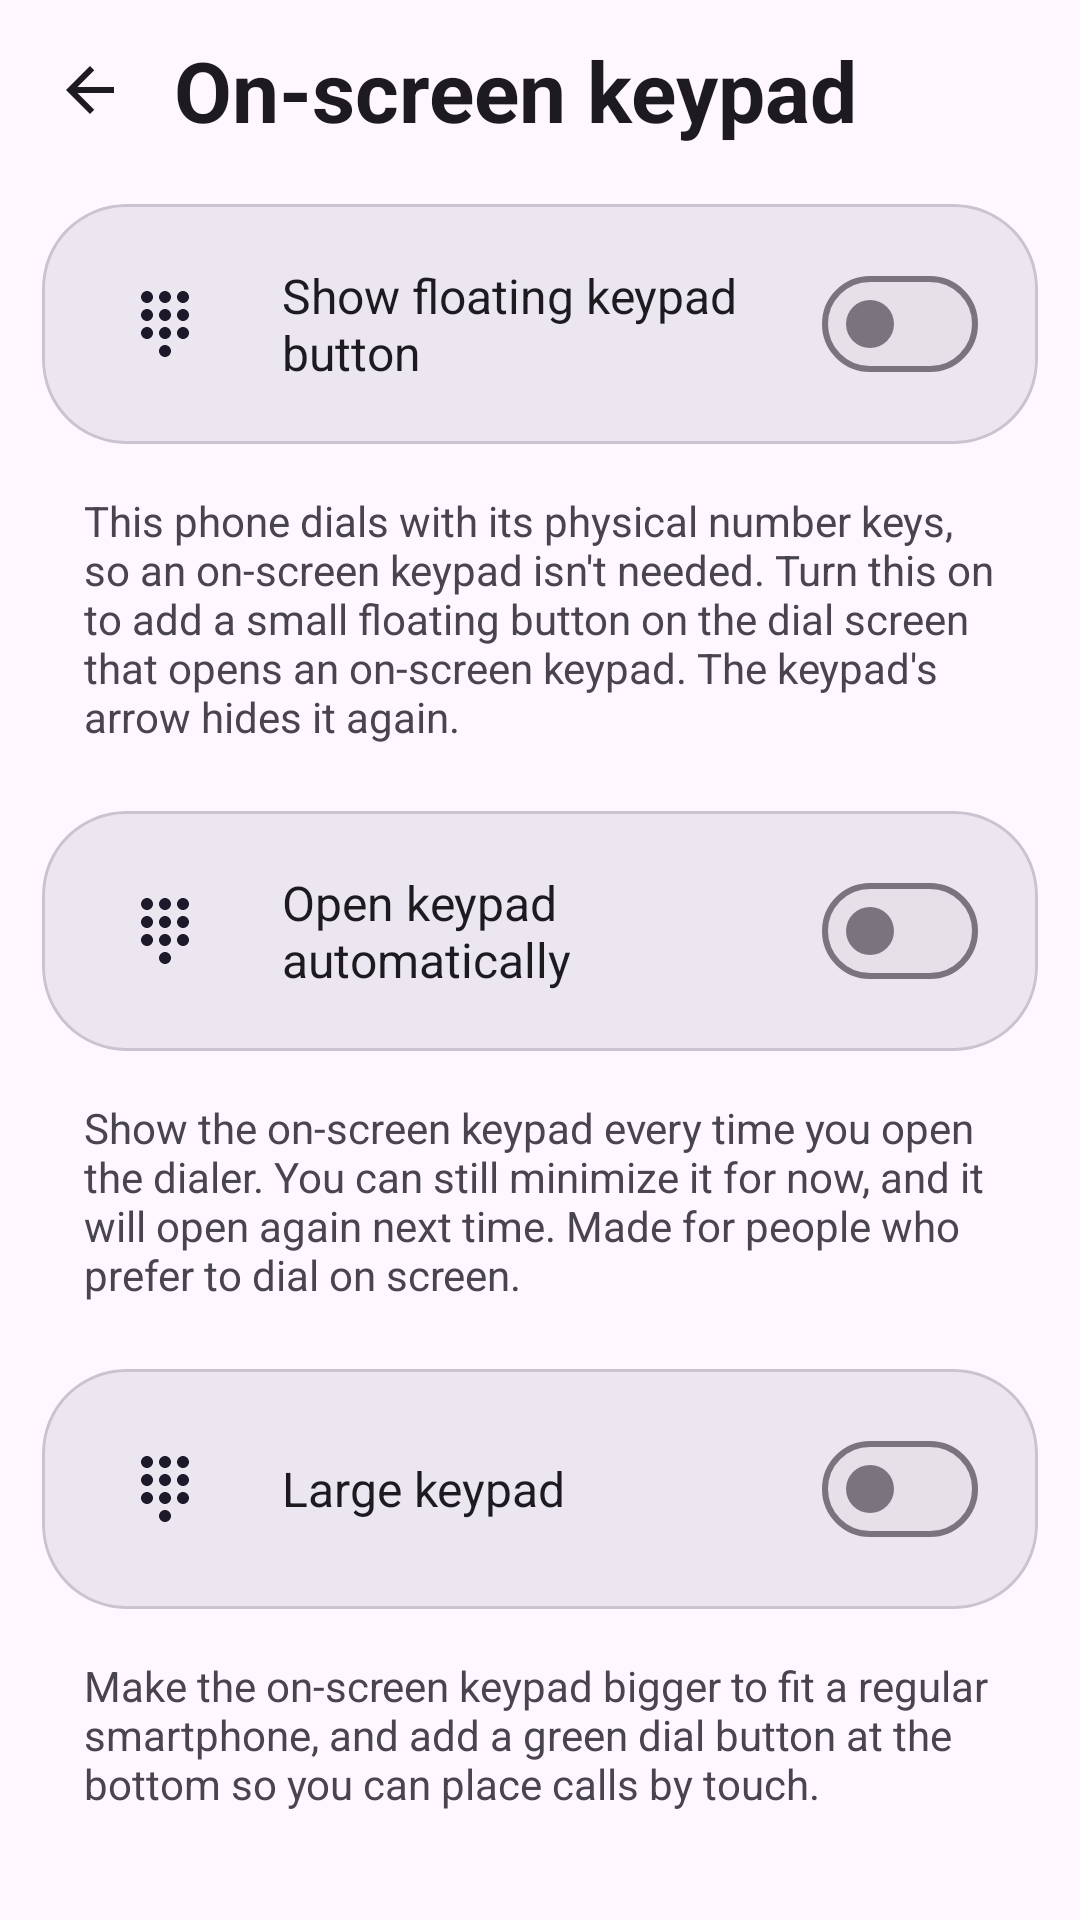

Locate icon controls on the screen. Image size 1080*1920, boxes as bbox=(x1, y1, x2, y2).
dialpad: bbox=(141, 291, 189, 357), bbox=(141, 898, 189, 964), bbox=(141, 1456, 189, 1522)
